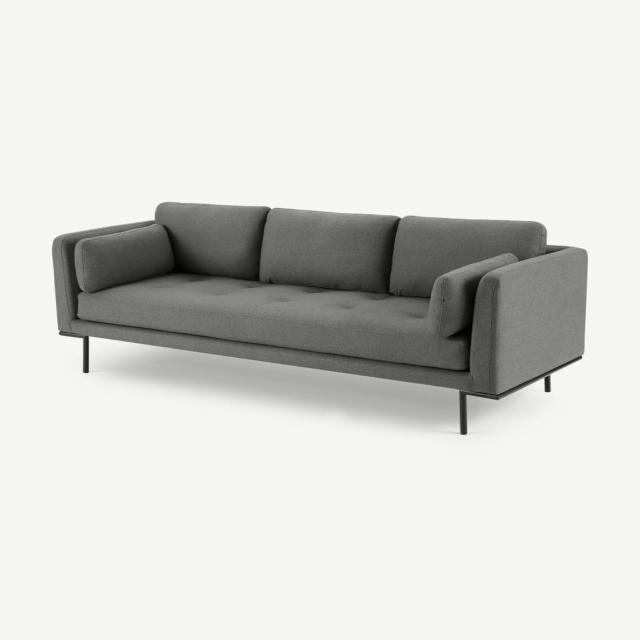back_cushion: (71, 202, 547, 337)
left_arm: (470, 247, 587, 395)
legs: (460, 391, 467, 435), (81, 336, 89, 373), (545, 376, 550, 392)
right_arm: (52, 221, 151, 332)
seat_cushion: (77, 272, 469, 371)
stallion-sofa: (0, 0, 639, 639)
